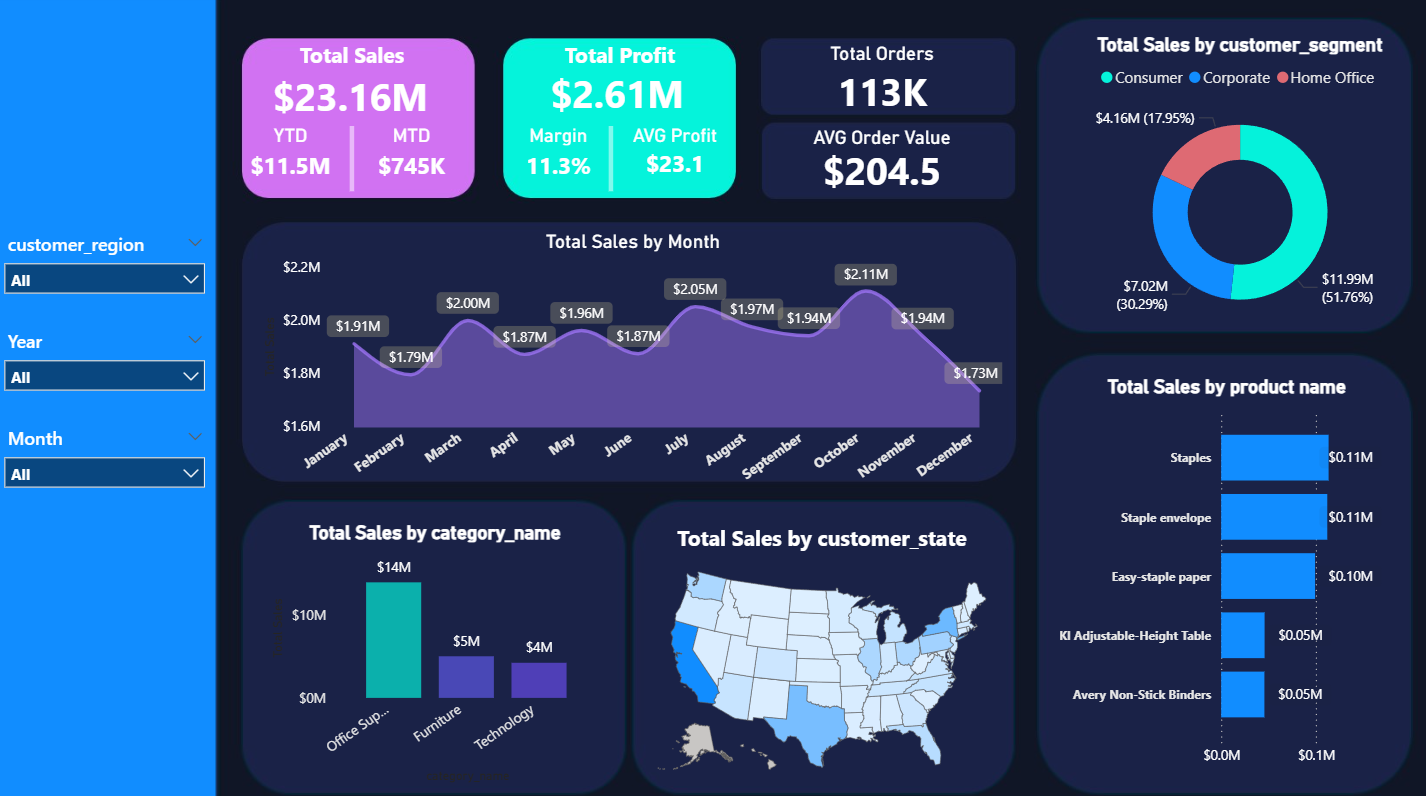

Layout of this report page (visuals, bound fields, positions):
{"tool":"powerbi","page":{"name":"Dashboard page","canvas":[1280,720],"ordinal":1},"visuals":[{"type":"slicer","fields":{"Values":["ecommerce_data.customer_region"]},"box":[0,205.3,198.2,61.5],"z":0,"group":"g1"},{"type":"card","fields":{"Values":["Measure.Total Sales"]},"box":[235.1,70.2,163.2,40.4],"z":0},{"type":"textbox","box":[501.8,35.1,154.4,50.9],"z":1000},{"type":"slicer","fields":{"Values":["Date Table.Year"]},"box":[0,291.2,198.2,61.5],"z":1000,"group":"g1"},{"type":"card","title":"YTD","fields":{"Values":["Measure.Sales MTD"]},"box":[210.5,114,107,57.9],"z":2000},{"type":"slicer","fields":{"Values":["Date Table.Month"]},"box":[0,377.1,198.2,61.5],"z":2000,"group":"g1"},{"type":"shape","box":[312.3,115.8,12.3,57.9],"z":3000},{"type":"card","title":"MTD","fields":{"Values":["Measure.Sales MTD"]},"box":[321.1,114,100,57.9],"z":4000},{"type":"card","fields":{"Values":["Measure.Total Profit"]},"box":[466.7,64.9,173.7,45.6],"z":5000},{"type":"textbox","box":[266.7,35.1,154.4,50.9],"z":6000},{"type":"shape","box":[542.1,115.8,12.3,57.9],"z":7000},{"type":"card","title":"Margin","fields":{"Values":["Measure.Profit Margin %"]},"box":[447.4,114,107,57.9],"z":8000},{"type":"card","title":"AVG Profit","fields":{"Values":["Measure.Avg Profit"]},"box":[522.8,114,163.2,54.4],"z":9000},{"type":"card","title":"AVG Order Value","fields":{"Values":["Measure.AVG Order VALUE"]},"box":[707,115.8,163.2,59.6],"z":10000},{"type":"card","title":"Total Orders","fields":{"Values":["Measure.Total Order"]},"box":[707,42.1,163.2,68.4],"z":11000},{"type":"lineChart","fields":{"Category":["Date Table.Month"],"Y":["Measure.Total Sales"]},"box":[235.1,208.8,664.9,242.1],"z":12000},{"type":"donutChart","fields":{"Y":["Measure.Total Sales"],"Category":["ecommerce_data.customer_segment"]},"box":[950.9,33.3,310.5,270.2],"z":13000},{"type":"clusteredColumnChart","fields":{"Category":["ecommerce_data.category_name"],"Y":["Measure.Total Sales"]},"box":[242.1,466.7,300,236.8],"z":14000},{"type":"shapeMap","fields":{"Value":["Measure.Total Sales"],"Category":["ecommerce_data.customer_state"]},"box":[568.4,468.4,333.3,236.8],"z":15000},{"type":"shape","box":[0,0,197.9,720.2],"z":16000},{"type":"group","id":"g1","title":"Group 1","box":[0,205.3,198.2,233.3],"z":17000},{"type":"barChart","title":"Total Sales by product name","fields":{"Category":["ecommerce_data.product_name"],"Y":["Measure.Total Sales"]},"box":[938.6,336.5,310.3,355],"z":19000}]}

Visuals, with their boxes in screenshot pixels (x1, y1, x2, y2), scaled from the page's 1280x720 canvas onto the 1426x796 screenshot:
slicer - ecommerce_data.customer_region: (0,227,221,295)
card - Measure.Total Sales: (262,78,444,122)
textbox: (559,39,731,95)
slicer - Date Table.Year: (0,322,221,390)
"YTD" card: (235,126,354,190)
slicer - Date Table.Month: (0,417,221,485)
shape: (348,128,362,192)
"MTD" card: (358,126,469,190)
card - Measure.Total Profit: (520,72,713,122)
textbox: (297,39,469,95)
shape: (604,128,618,192)
"Margin" card: (498,126,618,190)
"AVG Profit" card: (582,126,764,186)
"AVG Order Value" card: (788,128,969,194)
"Total Orders" card: (788,47,969,122)
lineChart - Date Table.Month x Measure.Total Sales: (262,231,1003,498)
donutChart - Measure.Total Sales x ecommerce_data.customer_segment: (1059,37,1405,336)
clusteredColumnChart - ecommerce_data.category_name x Measure.Total Sales: (270,516,604,778)
shapeMap - Measure.Total Sales x ecommerce_data.customer_state: (633,518,1005,780)
shape: (0,0,220,795)
"Group 1" group: (0,227,221,485)
"Total Sales by product name" barChart: (1046,372,1391,764)
